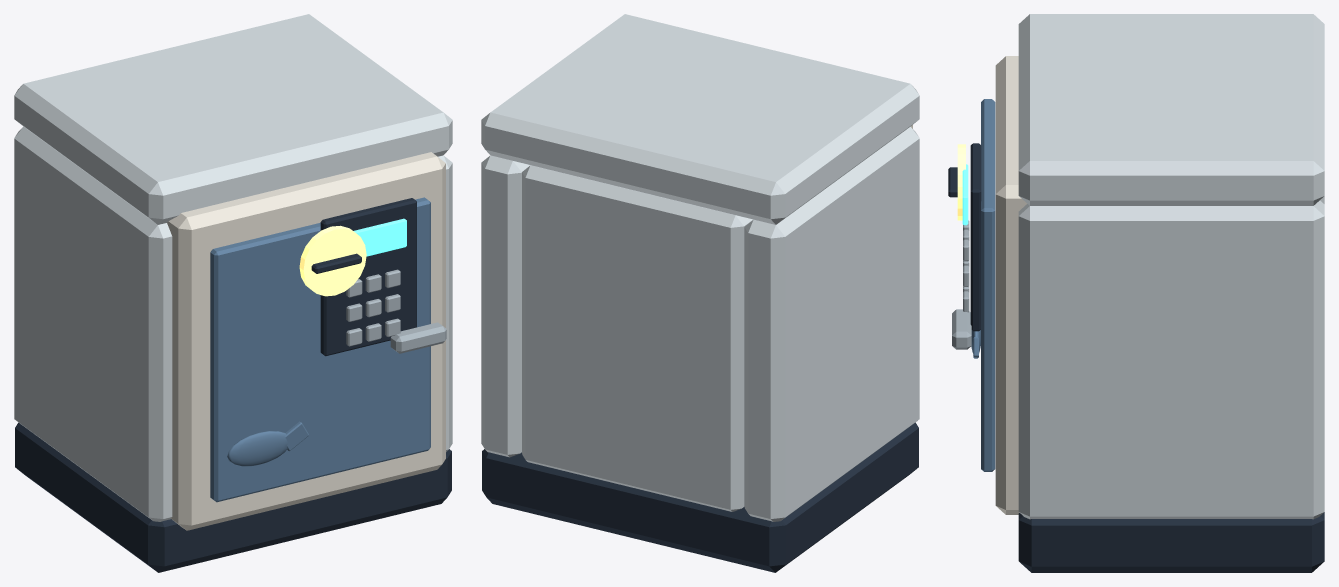
File: safes_08.glb
3 renders of one model, left to right at view 1: azimuth 30°, elevation 25°; view 2: azimuth 150°, elevation 25°; view 3: azimuth 270°, elevation 25°, orthographic. The views are drawn at different scales.
Visible parts, largest first — view 1: Top, Side (×2), InsetPanel, DoorPanel, Base, KeypadPanel, TokenSlot, WhaleBody, TinyScreen, Handle; view 2: Back, Side (×2), Top, Base; view 3: Side, Top, Base, DoorPanel, InsetPanel, KeypadPanel, Handle, TokenSlot.
Part boxes in pixels (<box>): Top: <box>14,14,452,224</box>; Side (×2): <box>14,126,452,521</box>; InsetPanel: <box>210,197,430,502</box>; DoorPanel: <box>167,152,445,530</box>; Base: <box>15,422,451,572</box>; KeypadPanel: <box>320,198,416,356</box>; TokenSlot: <box>299,225,366,296</box>; WhaleBody: <box>227,431,287,466</box>; TinyScreen: <box>353,218,406,256</box>; Handle: <box>390,322,446,353</box>; Back: <box>522,165,753,511</box>; Side (×2): <box>481,126,919,521</box>; Top: <box>481,14,919,224</box>; Base: <box>482,422,918,572</box>; Side: <box>1018,200,1324,519</box>; Top: <box>1018,14,1324,205</box>; Base: <box>1018,512,1324,572</box>; DoorPanel: <box>995,56,1026,514</box>; InsetPanel: <box>981,99,995,471</box>; KeypadPanel: <box>970,143,981,331</box>; Handle: <box>952,309,971,349</box>; TokenSlot: <box>957,144,965,220</box>.
Bounding box in the file's own units: 0.52 × 0.64 × 0.529.
